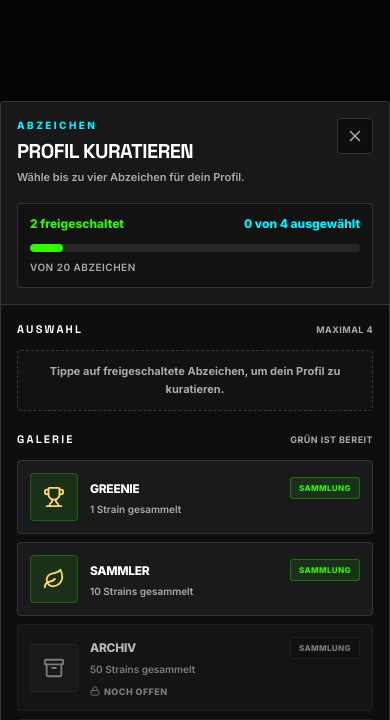
it: BadgeShowcase › selects an unlocked badge when tapping the full badge row
What coordinates should you click on to do the following:
click the button "Greenie Sammlung 1 Strain gesammelt"
I would click on:
 (54, 497)
Its box is [17, 460, 373, 534].
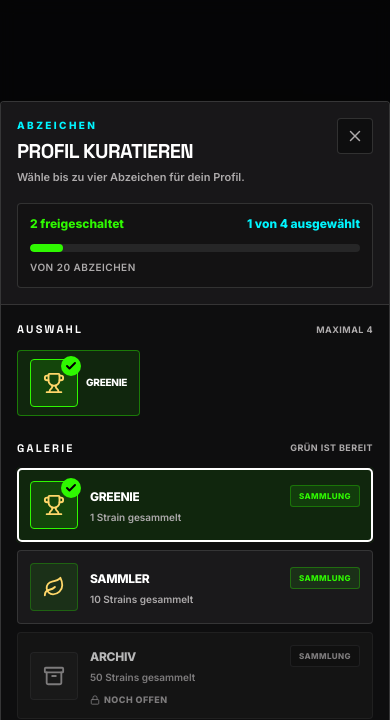
Now the text "1 von 4 ausgewählt" is shown, box [247, 216, 360, 232]
